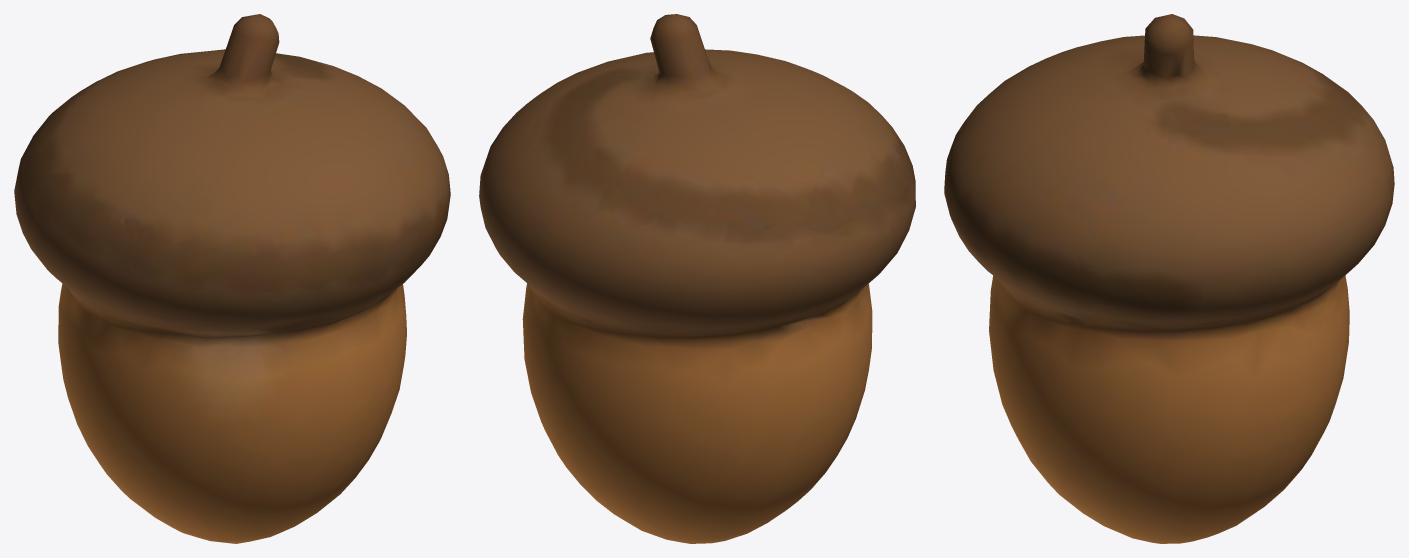
File: item.acorn.glb
The picture shows the model from 3 angles, left to right: view 1: azimuth 30°, elevation 25°; view 2: azimuth 150°, elevation 25°; view 3: azimuth 270°, elevation 25°; orthographic projection. The views are drawn at different scales.
Parts seen in each view (by area): view 1: acorn; view 2: acorn; view 3: acorn.
Part boxes in pixels (box(x1,y1,x2,y2)): acorn: box(14, 14, 450, 543); acorn: box(479, 14, 915, 543); acorn: box(944, 14, 1394, 543).
Size of the model in its own units: 0.4996 by 0.65 by 0.4999.
1 material, 1 textured.
